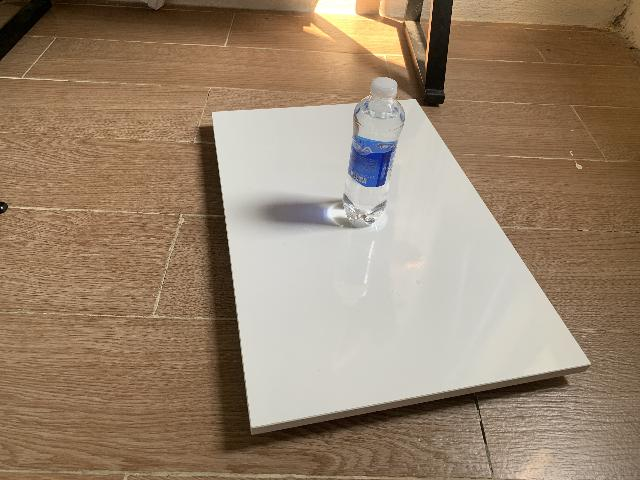aquafina: (343, 77, 405, 225)
